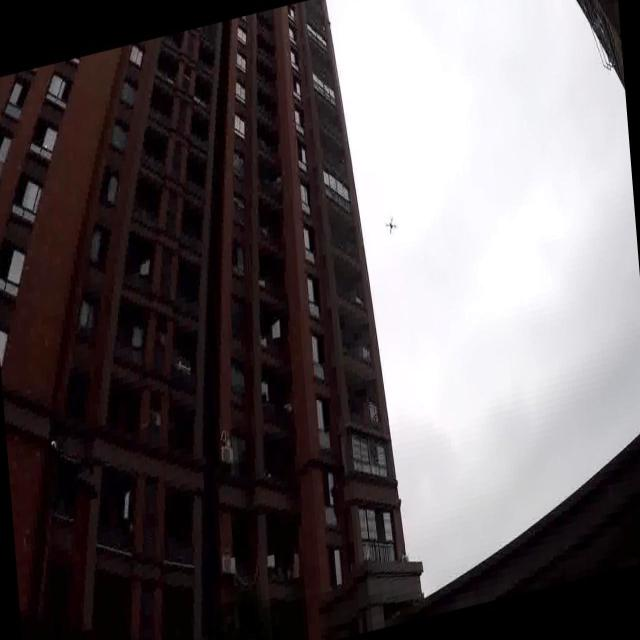drone: (382, 214, 398, 235)
